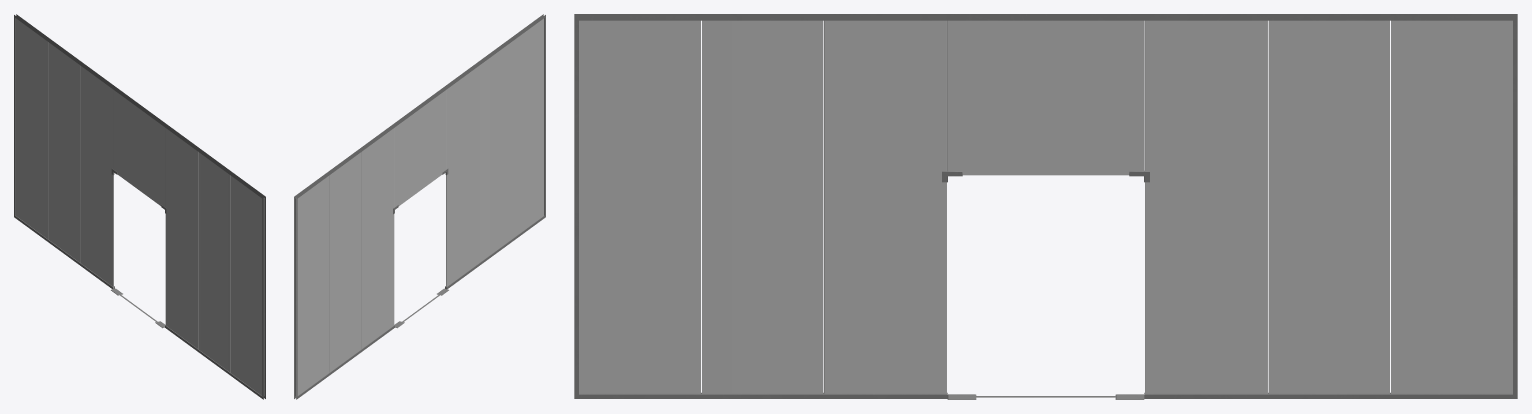
File: SM_StoreFront_Glass_1000.fbx
The picture shows the model from 3 angles, left to right: view 1: azimuth 30°, elevation 25°; view 2: azimuth 150°, elevation 25°; view 3: azimuth 270°, elevation 25°; orthographic projection. The views are drawn at different scales.
Parts seen in each view (by area): view 1: SM_StoreFront_Glass_1000_LOD0; view 2: SM_StoreFront_Glass_1000_LOD0; view 3: SM_StoreFront_Glass_1000_LOD0.
Part boxes in pixels (bbox=[...]): SM_StoreFront_Glass_1000_LOD0: bbox=[14, 14, 265, 399]; SM_StoreFront_Glass_1000_LOD0: bbox=[294, 14, 545, 399]; SM_StoreFront_Glass_1000_LOD0: bbox=[574, 14, 1517, 399].
Bounding box in the file's own units: 12.27 × 960 × 430.
